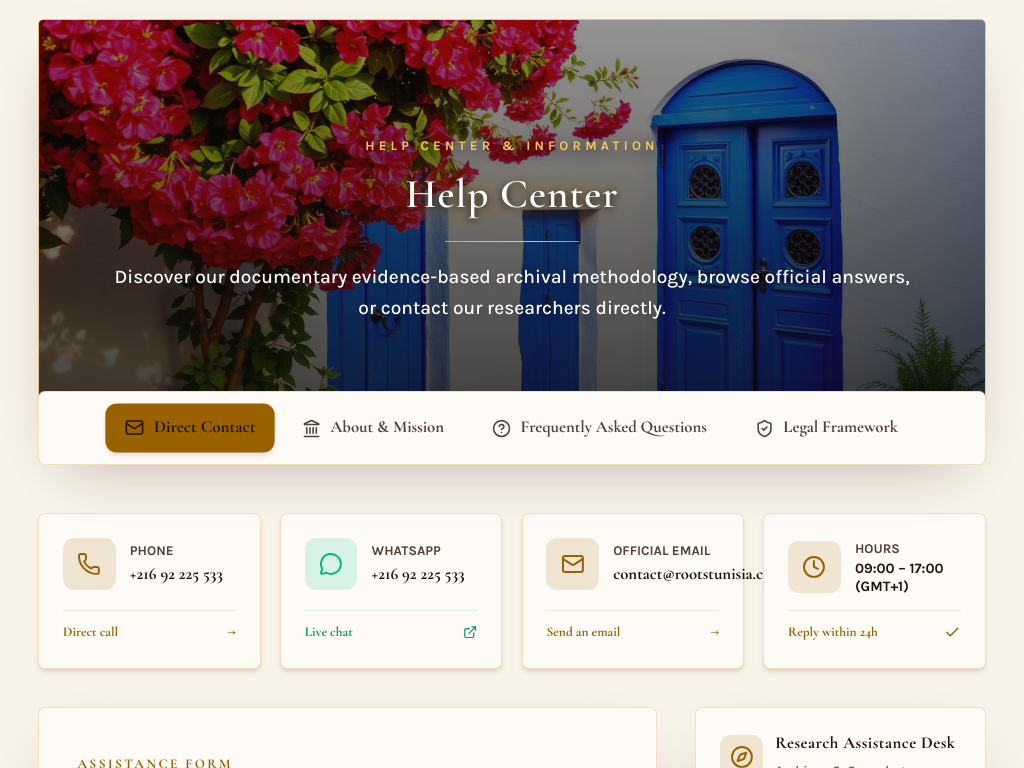
Test case: Help Center (/helpcenter) & Footer 6-Language Translation & RTL › renders all 4 Help Center tabs in all 6 languages with Arabic RTL and zero French leakage
Later steps or results of the test are not shown.
Expected: the text "Help Center & Information" is shown, 365,135 -> 659,158
Expected: the heading "Help Center" is shown, 405,172 -> 619,217
Tab 2: À Propos & Mission
Click the button "About & Mission" at (373, 428), box 283,404 -> 463,452
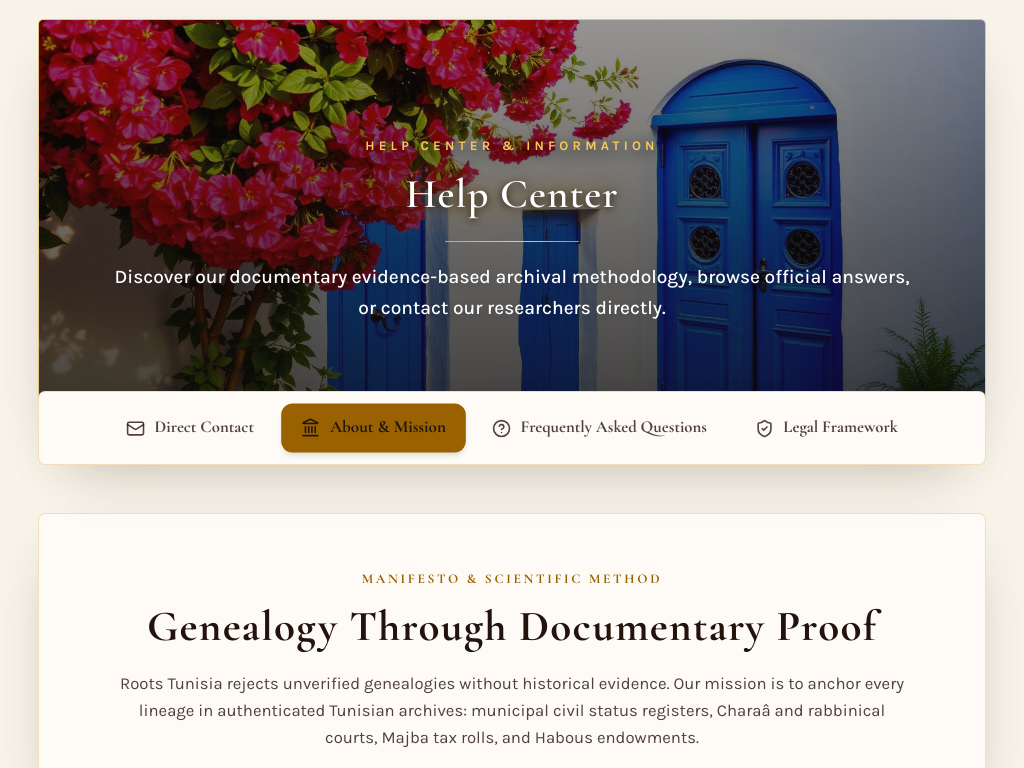
Tab 3: Foire Aux Questions (FAQ)
Click the button "Frequently Asked Questions" at (599, 428), box 473,404 -> 726,452
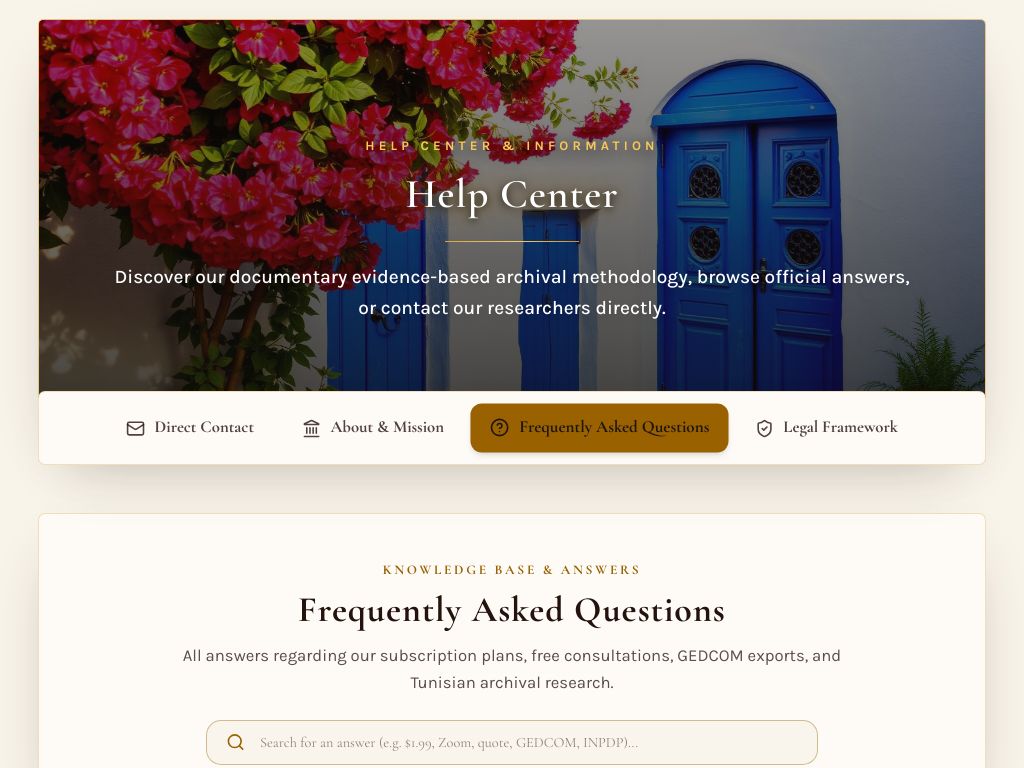
Now the text "Knowledge Base & Answers" is shown, box 383,562 -> 641,578
Tab 4: Cadre Légal
Click the button "Legal Framework" at (826, 428), box 736,404 -> 917,452
(page scrolled)
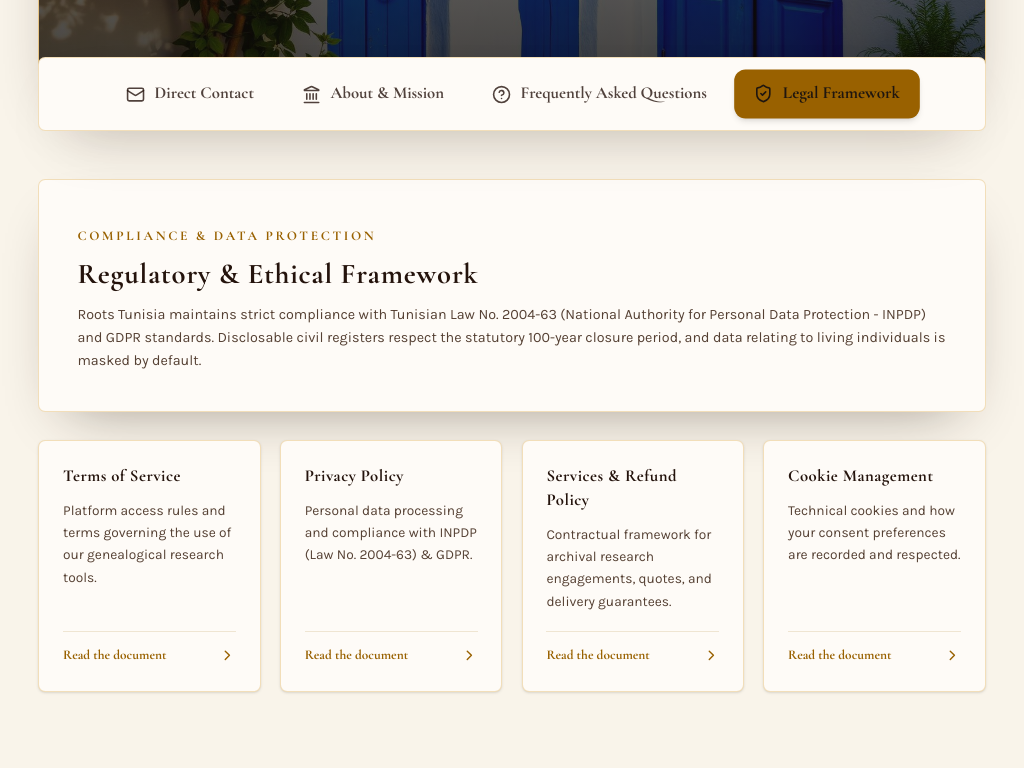
Now the text "Compliance & Data Protection" is shown, box 77,228 -> 376,244
Now the heading "Regulatory & Ethical Framework" is shown, box 77,257 -> 478,291
Now the text "Roots Tunisia maintains strict compliance with Tunisian Law No. 2004-63 (National Authority for Personal Data Protection" is shown, box 77,306 -> 945,369
